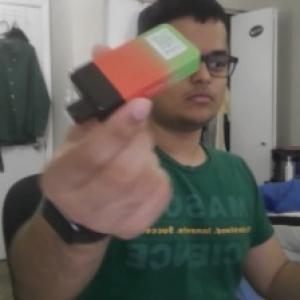Swift-E-Ciggirate: (63, 19, 202, 132)
